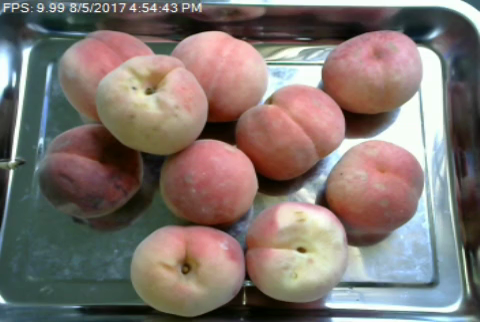Peach: (244, 201, 349, 304), (129, 224, 244, 318), (99, 54, 205, 154), (236, 85, 345, 181), (54, 28, 154, 128), (325, 138, 423, 236), (41, 122, 141, 217), (174, 30, 270, 122), (322, 29, 422, 115), (160, 139, 258, 225)
